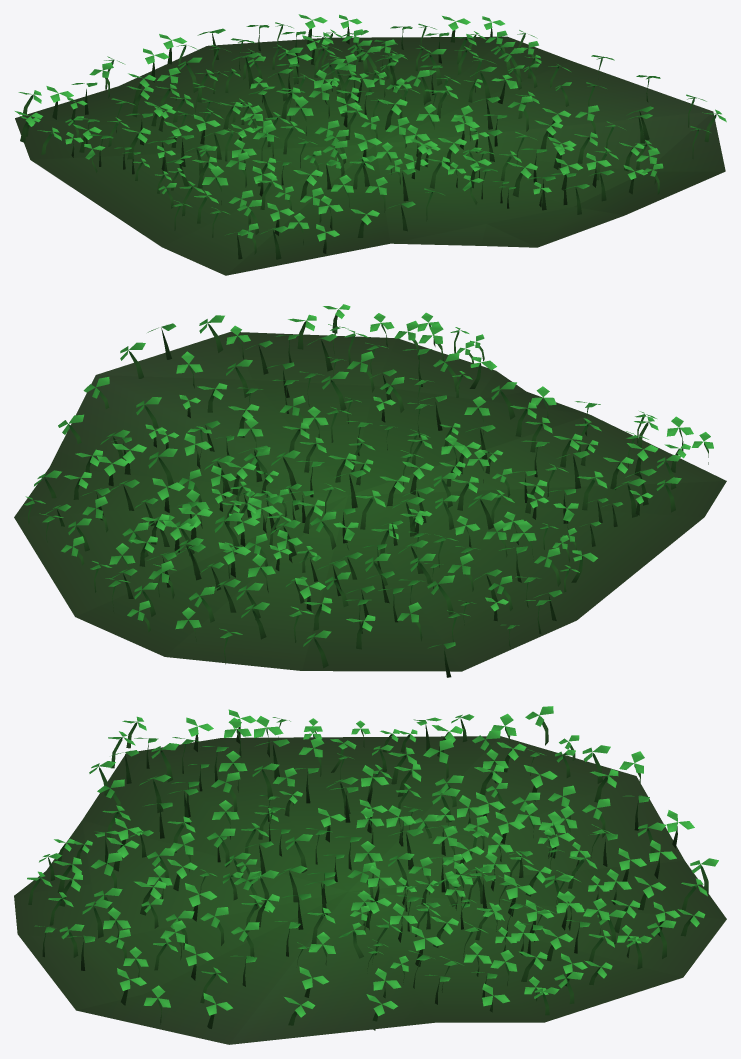
The model's file is cloverfield_large.fbx.
3 renders of one model, top to bottom at view 1: azimuth 30°, elevation 25°; view 2: azimuth 150°, elevation 25°; view 3: azimuth 270°, elevation 25°, orthographic. The views are drawn at different scales.
Parts seen in each view (by area): view 1: Cube.000, Cube.009; view 2: Cube.000, Cube.009; view 3: Cube.000, Cube.009.
Part boxes in pixels (x1,y1,x2,y2): Cube.000: [15, 36, 725, 275]; Cube.009: [15, 14, 726, 259]; Cube.000: [14, 331, 726, 671]; Cube.009: [24, 304, 713, 677]; Cube.000: [14, 736, 726, 1044]; Cube.009: [27, 706, 718, 1030].
Bounding box in the file's own units: 1158 × 155 × 1132.
